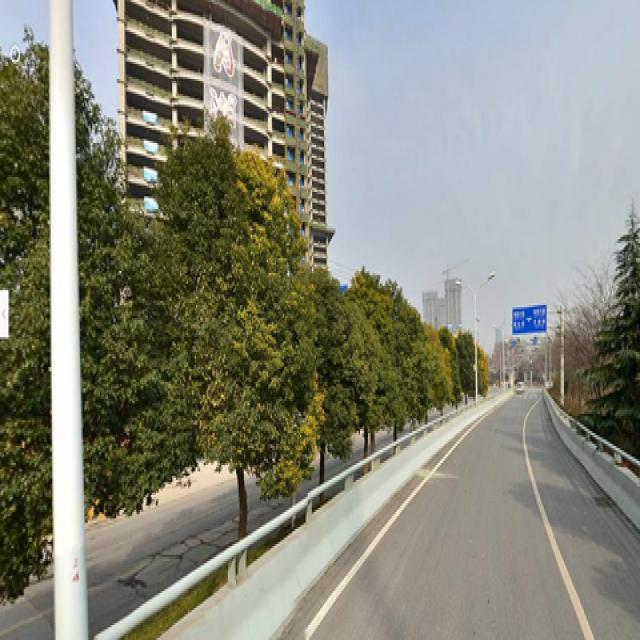cinn: (175, 152, 289, 520), (293, 260, 347, 484), (353, 290, 395, 452)
